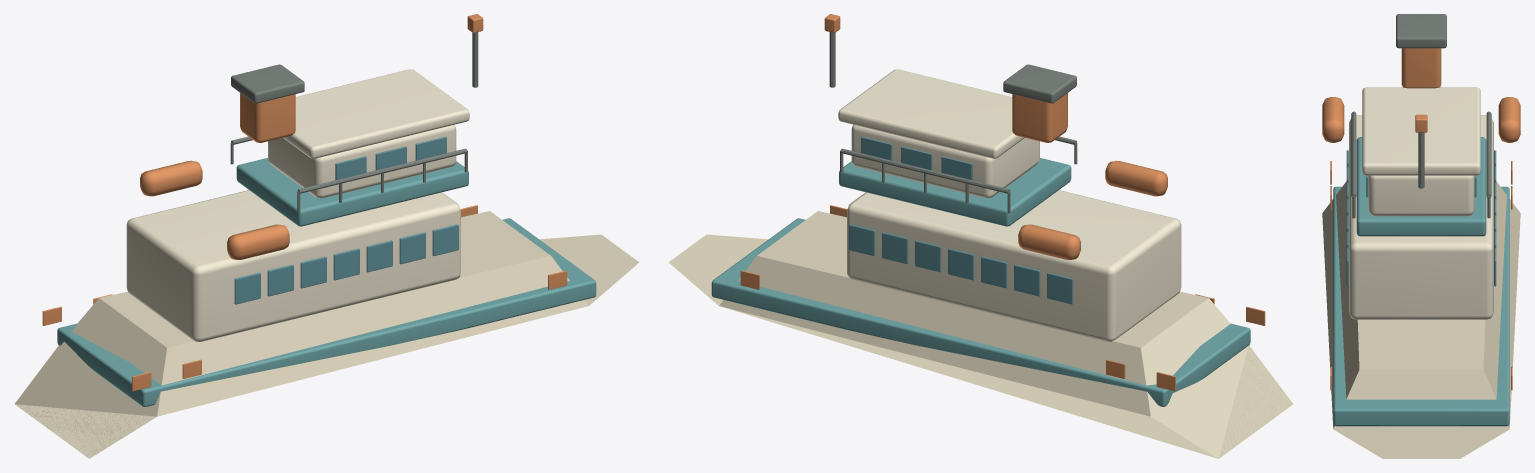
Rendered from passenger_ferry_b.glb.
The picture shows the model from 3 angles, left to right: view 1: azimuth 30°, elevation 25°; view 2: azimuth 150°, elevation 25°; view 3: azimuth 270°, elevation 25°; orthographic projection.
Parts seen in each view (by area): view 1: Ferry_hull.001, Passenger_cabin.001, Waterline_band.001, Sun_deck_canopy.001, Sky_deck.001, Upper_lounge.001, Cruise_funnel.001, Funnel_cap.001, Lifeboat.002, Lifeboat.003, Ferry_detail.013, Cabin_window.023 (+6 smaller); view 2: Ferry_hull.001, Passenger_cabin.001, Waterline_band.001, Sun_deck_canopy.001, Sky_deck.001, Upper_lounge.001, Cruise_funnel.001, Funnel_cap.001, Lifeboat.002, Lifeboat.003, Ferry_detail.019, Cabin_window.030 (+6 smaller); view 3: Ferry_hull.001, Passenger_cabin.001, Sun_deck_canopy.001, Waterline_band.001, Upper_lounge.001, Sky_deck.001, Funnel_cap.001, Cruise_funnel.001, Lifeboat.002, Lifeboat.003, Ferry_detail.013, Ferry_detail.019 (+2 smaller).
Part boxes in pixels (x1=…): Ferry_hull.001: x1=14, y1=211, x2=639, y2=458; Passenger_cabin.001: x1=126, y1=190, x2=460, y2=341; Waterline_band.001: x1=57, y1=218, x2=596, y2=406; Sun_deck_canopy.001: x1=283, y1=69, x2=469, y2=158; Sky_deck.001: x1=236, y1=158, x2=468, y2=226; Upper_lounge.001: x1=268, y1=124, x2=456, y2=198; Cruise_funnel.001: x1=240, y1=93, x2=295, y2=142; Funnel_cap.001: x1=231, y1=64, x2=304, y2=103; Lifeboat.002: x1=227, y1=224, x2=289, y2=259; Lifeboat.003: x1=140, y1=160, x2=202, y2=196; Ferry_detail.013: x1=297, y1=148, x2=467, y2=193; Cabin_window.023: x1=399, y1=232, x2=425, y2=264; Ferry_hull.001: x1=668, y1=211, x2=1293, y2=458; Passenger_cabin.001: x1=847, y1=190, x2=1181, y2=341; Waterline_band.001: x1=711, y1=218, x2=1250, y2=406; Sun_deck_canopy.001: x1=838, y1=69, x2=1024, y2=158; Sky_deck.001: x1=839, y1=158, x2=1071, y2=226; Upper_lounge.001: x1=851, y1=124, x2=1039, y2=198; Cruise_funnel.001: x1=1012, y1=93, x2=1067, y2=142; Funnel_cap.001: x1=1003, y1=64, x2=1076, y2=103; Lifeboat.002: x1=1105, y1=160, x2=1167, y2=196; Lifeboat.003: x1=1018, y1=224, x2=1080, y2=259; Ferry_detail.019: x1=840, y1=148, x2=1010, y2=193; Cabin_window.030: x1=882, y1=232, x2=908, y2=264; Ferry_hull.001: x1=1322, y1=181, x2=1520, y2=458; Passenger_cabin.001: x1=1349, y1=115, x2=1493, y2=319; Sun_deck_canopy.001: x1=1362, y1=87, x2=1480, y2=175; Waterline_band.001: x1=1333, y1=186, x2=1509, y2=426; Upper_lounge.001: x1=1368, y1=175, x2=1474, y2=216; Sky_deck.001: x1=1356, y1=137, x2=1486, y2=236; Funnel_cap.001: x1=1396, y1=14, x2=1446, y2=48; Cruise_funnel.001: x1=1401, y1=48, x2=1441, y2=88; Lifeboat.002: x1=1322, y1=97, x2=1344, y2=142; Lifeboat.003: x1=1498, y1=97, x2=1520, y2=142; Ferry_detail.013: x1=1351, y1=111, x2=1356, y2=197; Ferry_detail.019: x1=1486, y1=111, x2=1491, y2=197.
Size of the model in its own units: 3.95 by 2.07 by 1.18.
